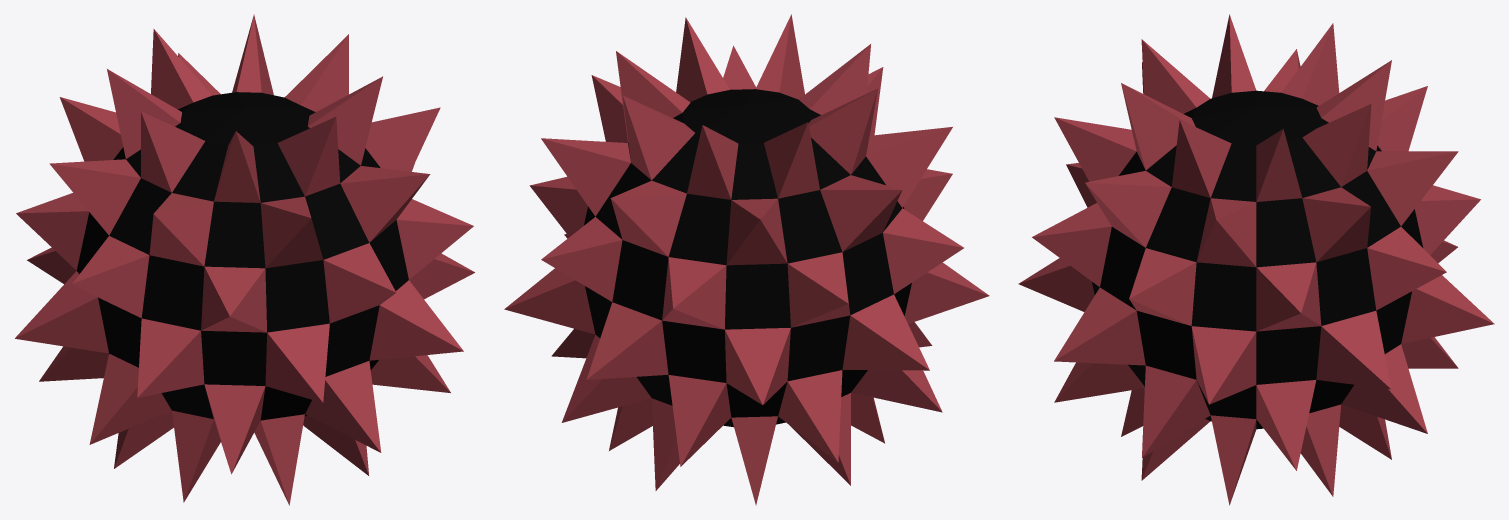
The model's file is SpikedBall.glb.
The picture shows the model from 3 angles, left to right: view 1: azimuth 30°, elevation 25°; view 2: azimuth 150°, elevation 25°; view 3: azimuth 270°, elevation 25°; orthographic projection.
Parts seen in each view (by area): view 1: Sphere; view 2: Sphere; view 3: Sphere.
Part boxes in pixels (box(x1,y1,x2,y2)): Sphere: box(15, 14, 474, 505); Sphere: box(504, 14, 989, 505); Sphere: box(1018, 14, 1494, 505).
Size of the model in its own units: 0.9852 by 0.8605 by 0.9852.
1 material, 1 textured.
